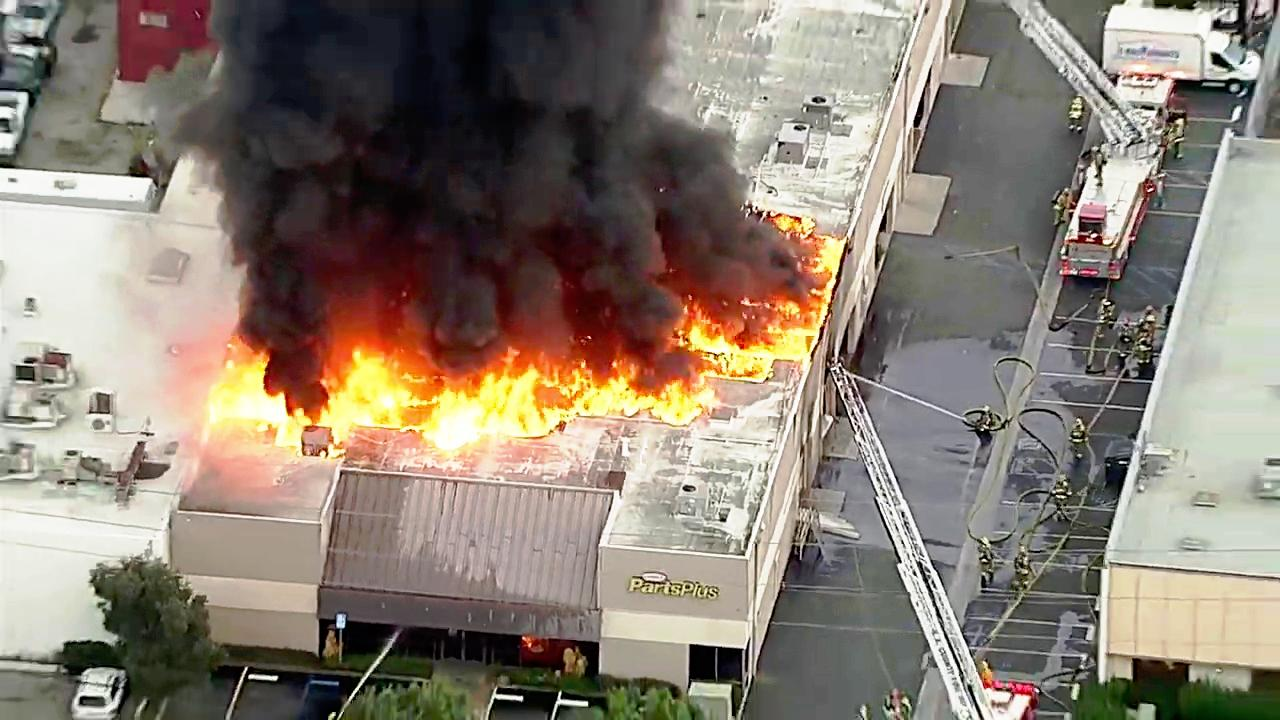fire: (426, 362, 542, 446), (314, 350, 422, 435), (210, 349, 302, 428), (577, 375, 709, 426)
smoke: (270, 0, 626, 322), (651, 143, 744, 282)
